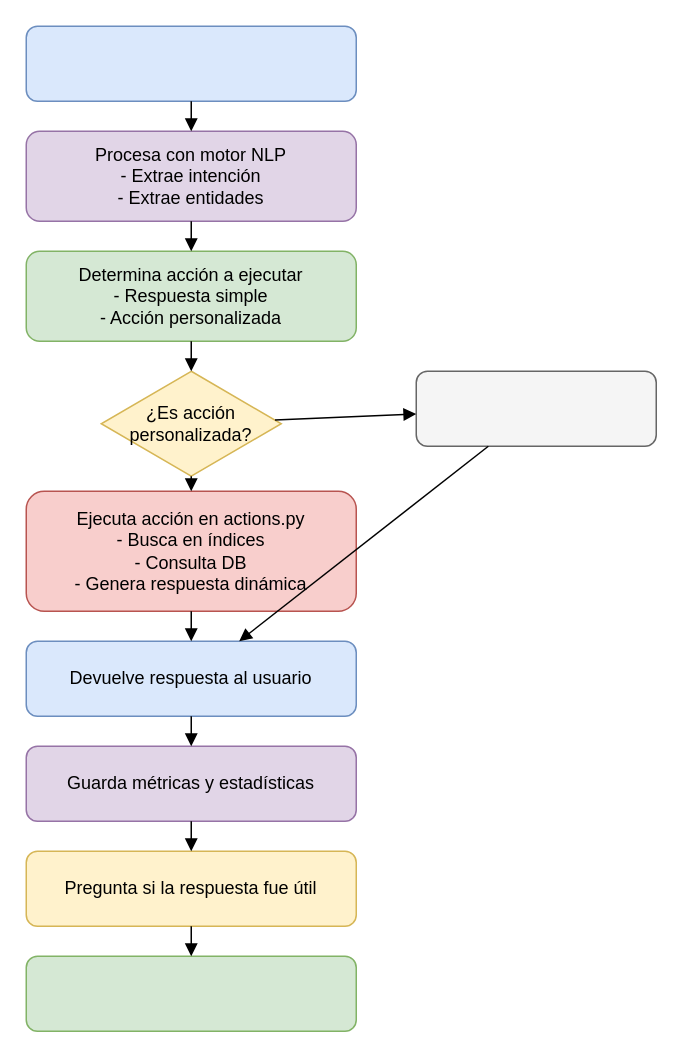
The diagram is 683 pixels wide and 1058 high, and some of its shapes have lost their labels. Here are the shapes that lost their labels. From the top down, the centre of each, then its label:
At point (190, 63): "Recibe mensaje del usuario".
At point (535, 408): "Respuesta simple (utter)".
At point (190, 993): "Espera siguiente mensaje".
